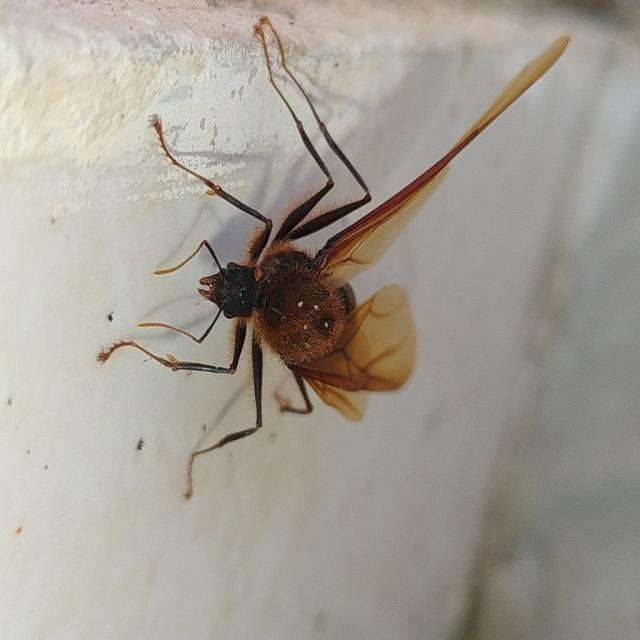Alive-Male-Alate: (98, 17, 570, 502)
